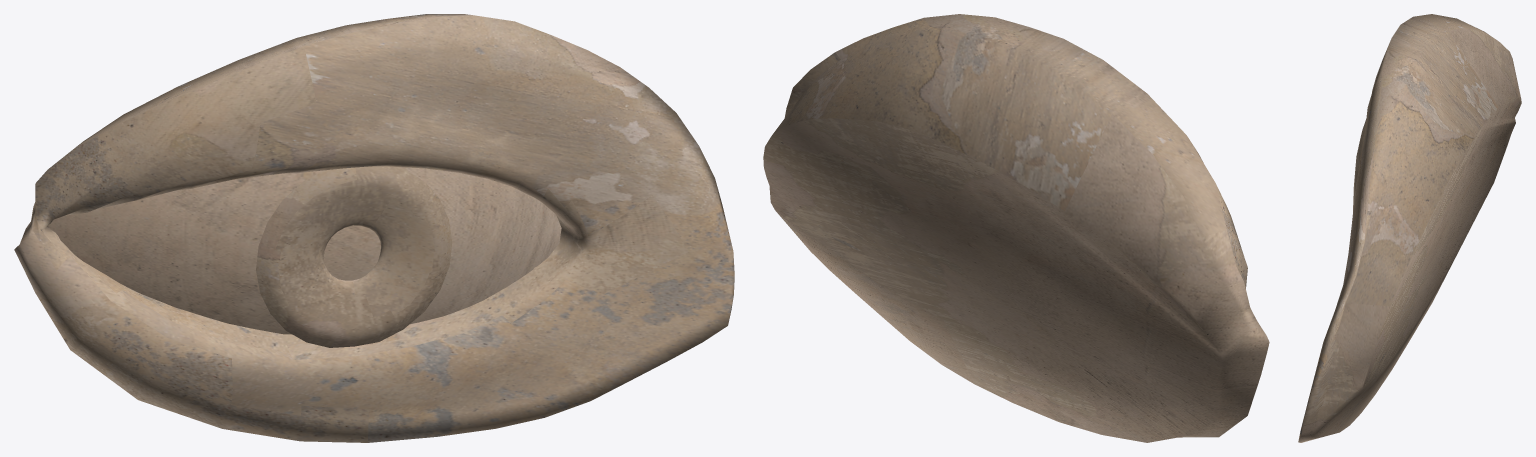
File: eye-L.fbx
3 renders of one model, left to right at view 1: azimuth 30°, elevation 25°; view 2: azimuth 150°, elevation 25°; view 3: azimuth 270°, elevation 25°, orthographic. The views are drawn at different scales.
Visible parts, largest first — view 1: Eye_L; view 2: Eye_L; view 3: Eye_L.
Part boxes in pixels (bbox=[...]): Eye_L: bbox=[14, 14, 734, 442]; Eye_L: bbox=[763, 14, 1269, 442]; Eye_L: bbox=[1298, 14, 1521, 442].
Bounding box in the file's own units: 3.53 × 2.23 × 1.35.
